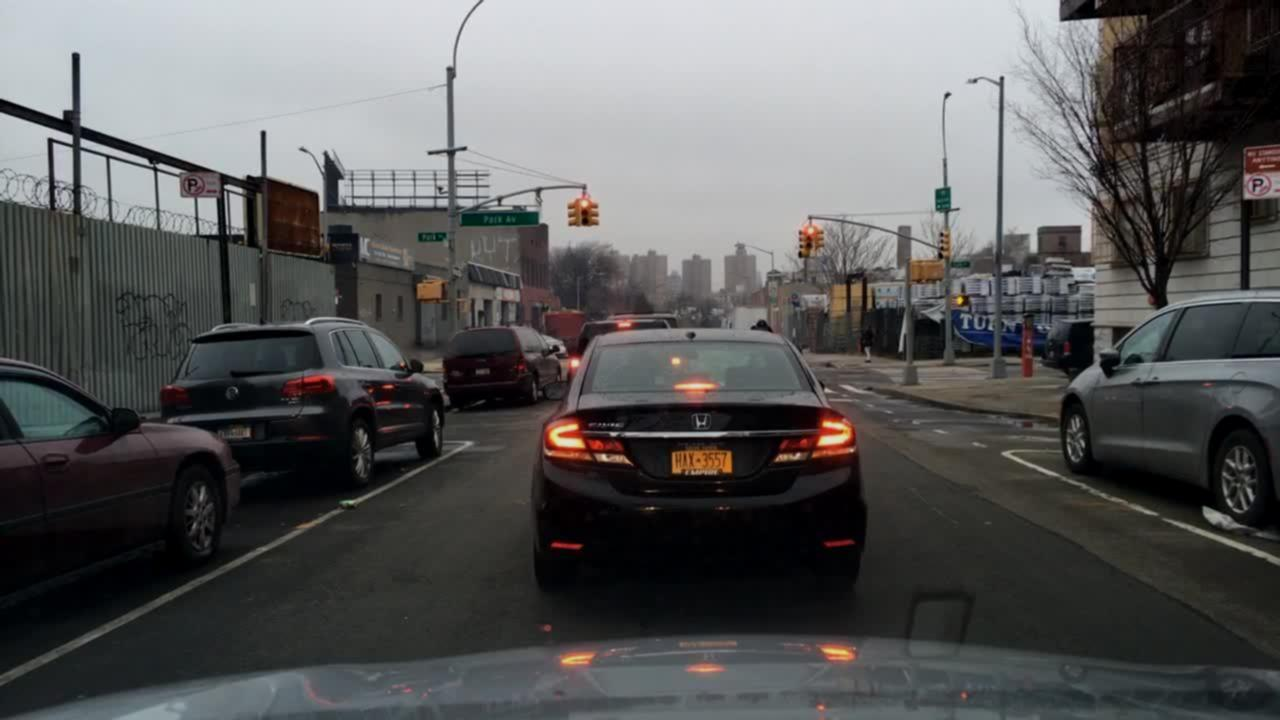Honda: (683, 402, 722, 440)
Volkswagen: (218, 379, 248, 404)
